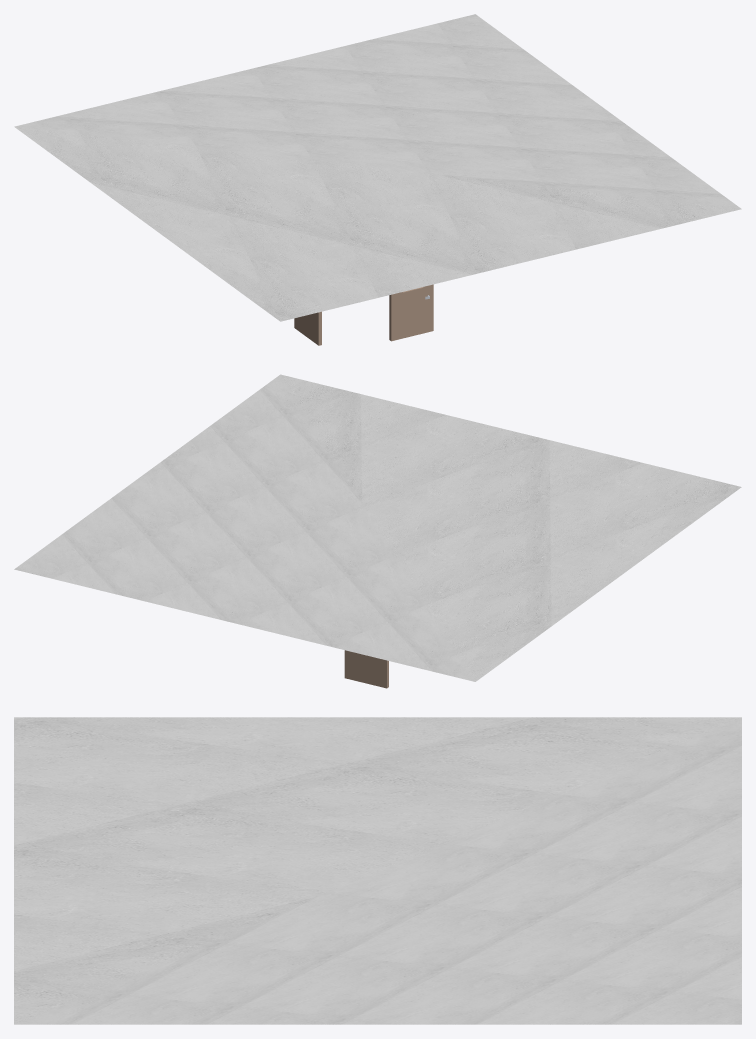
File: door.glb
3 renders of one model, top to bottom at view 1: azimuth 30°, elevation 25°; view 2: azimuth 150°, elevation 25°; view 3: azimuth 270°, elevation 25°, orthographic. The views are drawn at different scales.
Visible parts, largest first — view 1: Cube.009, Plane.002, Plane.003; view 2: Cube.009, Plane.001; view 3: Cube.009.
Boxes of the visible parts, bbox=[...] form: Cube.009: bbox=[14, 14, 741, 321]; Plane.002: bbox=[389, 284, 433, 341]; Plane.003: bbox=[294, 311, 321, 345]; Cube.009: bbox=[14, 374, 741, 681]; Plane.001: bbox=[344, 650, 388, 688]; Cube.009: bbox=[14, 717, 741, 1024].
Bounding box in the file's own units: 32.76 × 7.55 × 32.76.
3 materials, 1 textured.
